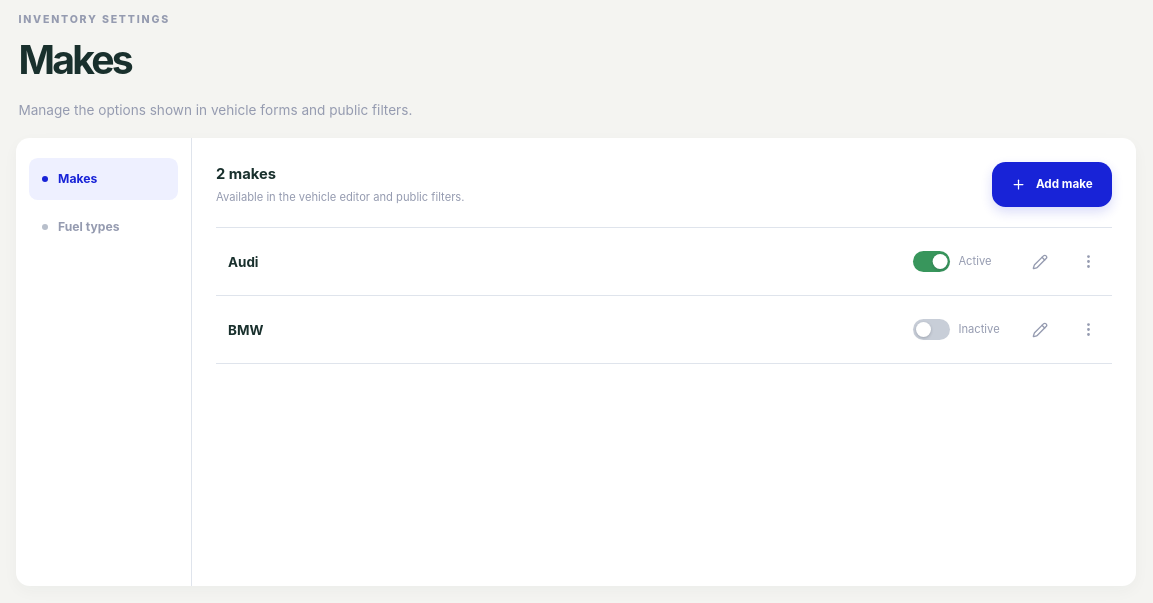
AdminInventoryPanel option management › navigates between make and fuel-type settings
Expected: the text "2 makes" is shown, top-left (216, 165), bottom-right (276, 183)
Click the button "Fuel types" at (104, 227), box top-left (29, 206), bottom-right (178, 248)
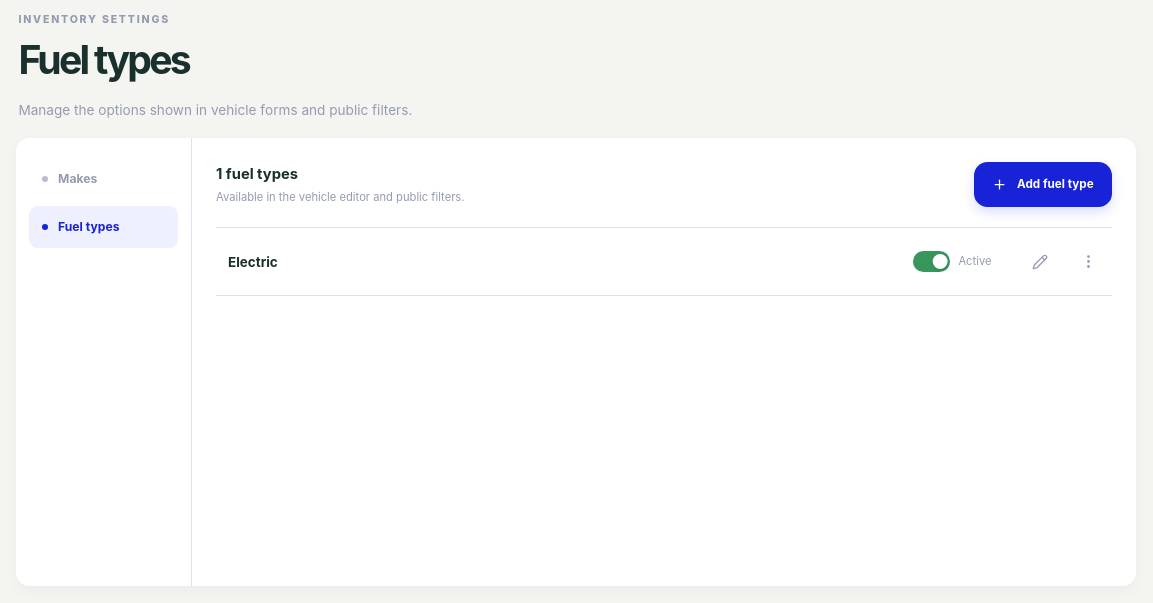
Expected: the text "1 fuel types" is shown, top-left (216, 165), bottom-right (298, 183)
Expected: the text "Electric" is shown, top-left (228, 254), bottom-right (278, 270)
